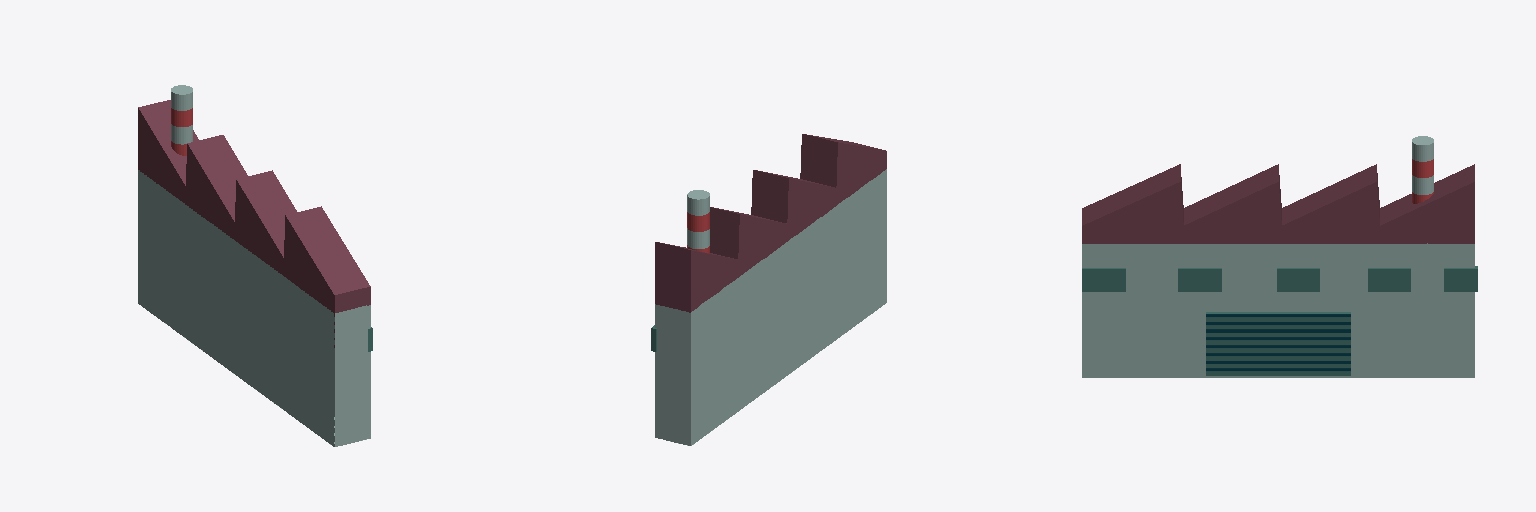
3 views of the same model, side by side, from view 1: azimuth 30°, elevation 25°; view 2: azimuth 150°, elevation 25°; view 3: azimuth 270°, elevation 25° (orthographic).
Visible parts, largest first — view 1: 立方体; view 2: 立方体; view 3: 立方体.
Part boxes in pixels (bbox=[...]): 立方体: bbox=[138, 85, 372, 446]; 立方体: bbox=[651, 134, 886, 445]; 立方体: bbox=[1082, 136, 1477, 377].
Bounding box in the file's own units: 1.91 × 10.26 × 16.11.
Materials: 1 (1 with a texture image).